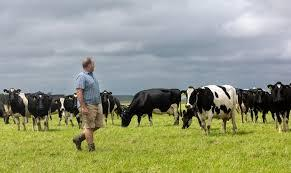cow: (183, 85, 238, 137), (121, 89, 182, 128), (266, 82, 291, 134), (25, 91, 53, 133), (2, 89, 29, 131), (99, 91, 121, 125), (249, 89, 269, 123), (55, 96, 76, 127)
